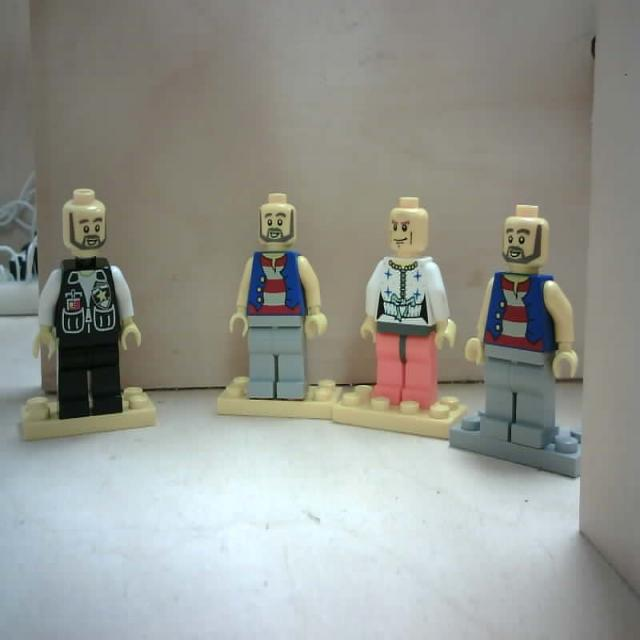Lego-People: (447, 198, 590, 484), (14, 182, 159, 452), (329, 190, 474, 450), (218, 186, 346, 428)
